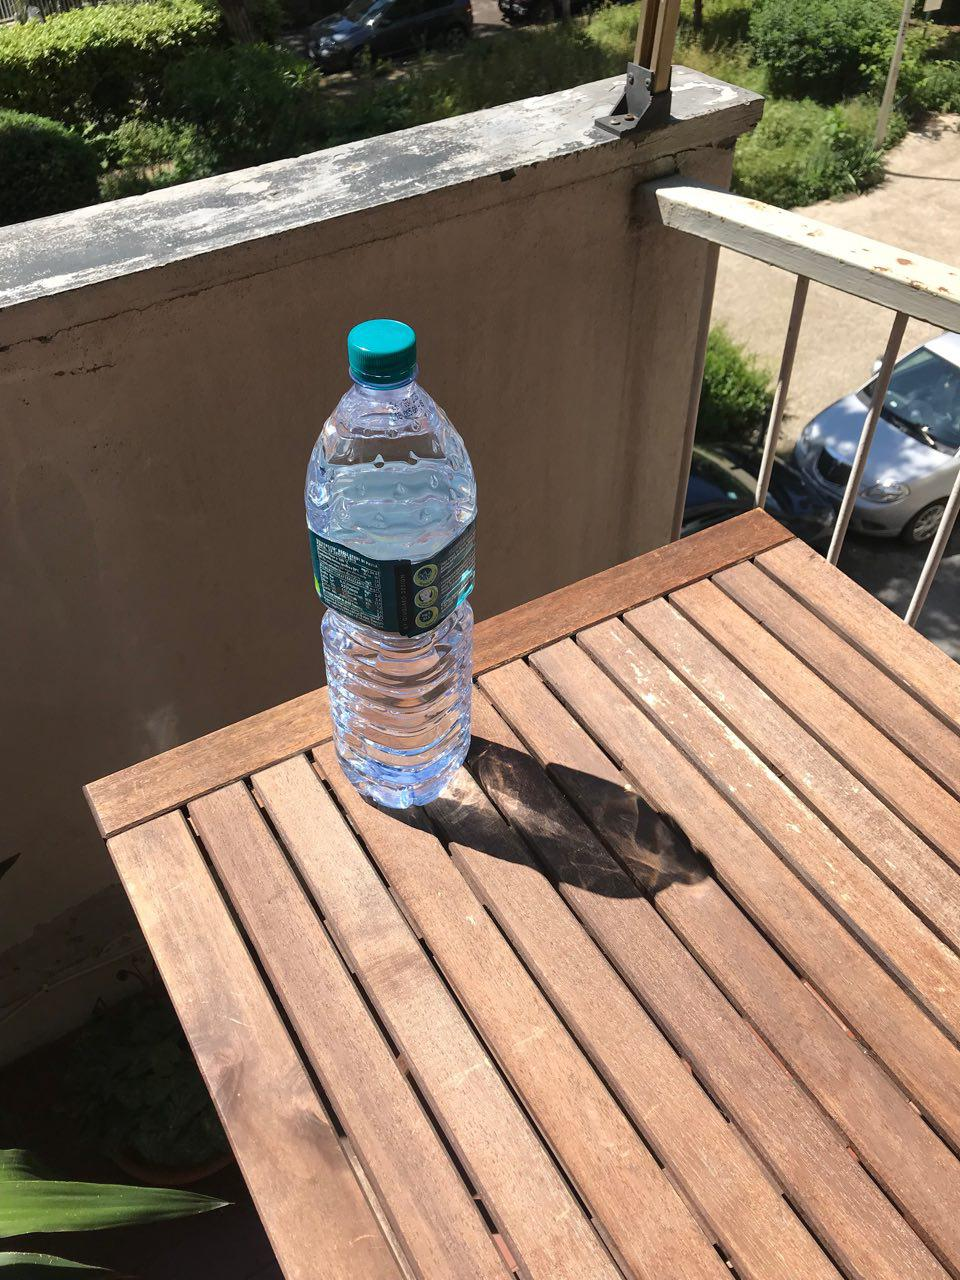san_bernardo: (303, 315, 478, 809)
